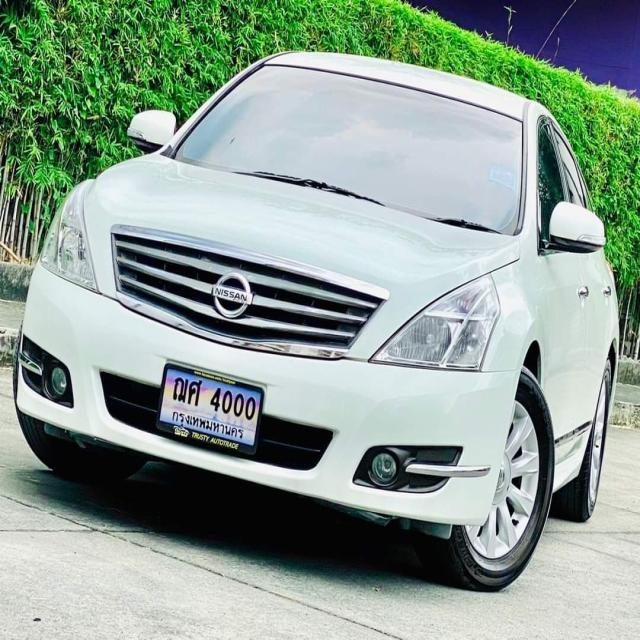license_plate: (156, 358, 264, 458)
